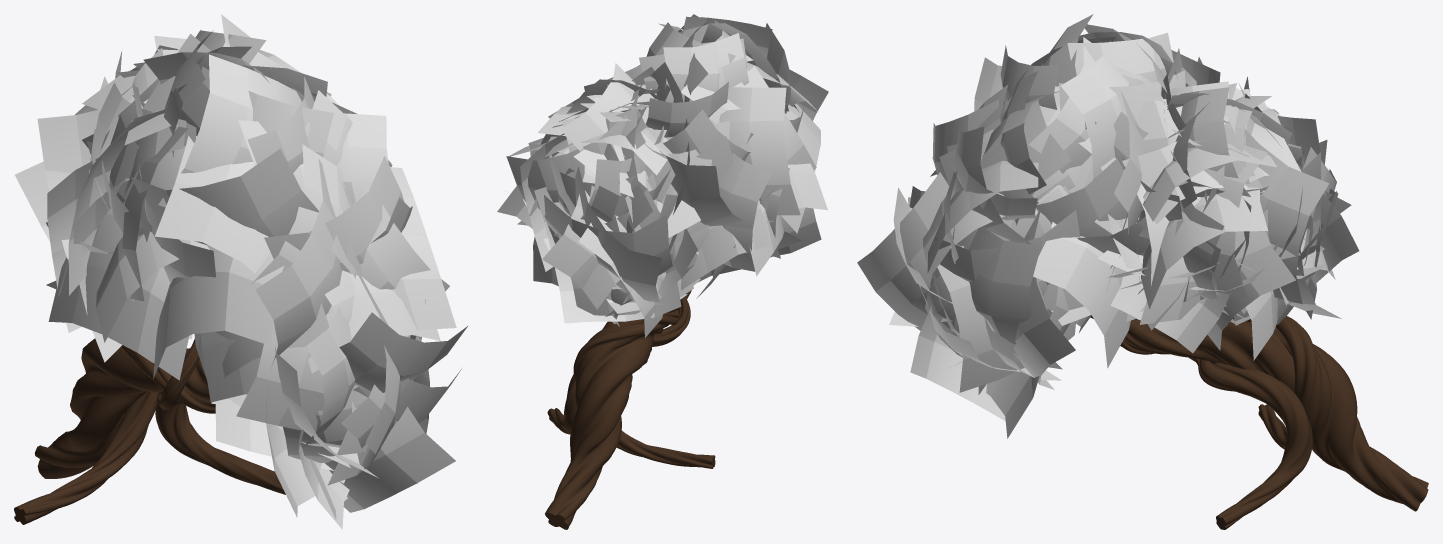
Rendered from ProceduralTree_02.fbx.
3 views of the same model, side by side, from view 1: azimuth 30°, elevation 25°; view 2: azimuth 150°, elevation 25°; view 3: azimuth 270°, elevation 25° (orthographic). The views are drawn at different scales.
Parts seen in each view (by area): view 1: ProceduralTree_02_Leaves, ProceduralTree_02; view 2: ProceduralTree_02_Leaves, ProceduralTree_02; view 3: ProceduralTree_02_Leaves, ProceduralTree_02.
Part boxes in pixels (x1=…): ProceduralTree_02_Leaves: x1=15, y1=14, x2=468, y2=529; ProceduralTree_02: x1=14, y1=338, x2=285, y2=524; ProceduralTree_02_Leaves: x1=497, y1=14, x2=828, y2=337; ProceduralTree_02: x1=545, y1=290, x2=715, y2=529; ProceduralTree_02_Leaves: x1=857, y1=14, x2=1359, y2=438; ProceduralTree_02: x1=1090, y1=315, x2=1428, y2=529.
Bounding box in the file's own units: 718 × 1109 × 1198.
